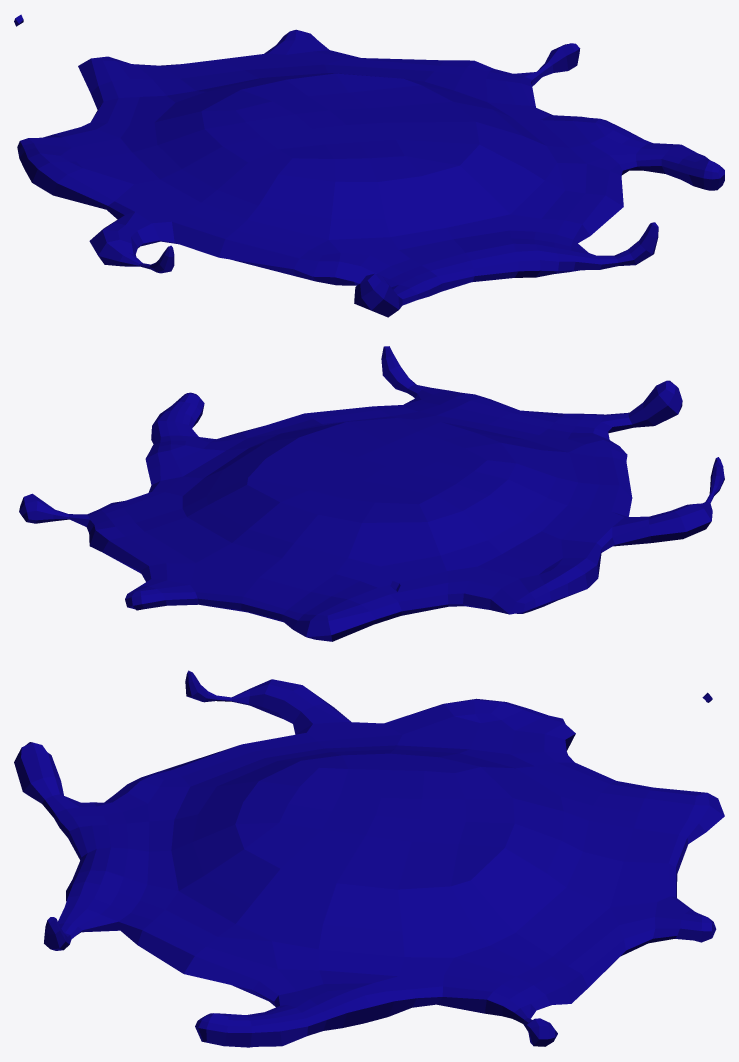
Rendered from splash_bleu.FBX.
3 renders of one model, top to bottom at view 1: azimuth 30°, elevation 25°; view 2: azimuth 150°, elevation 25°; view 3: azimuth 270°, elevation 25°, orthographic. The views are drawn at different scales.
Parts seen in each view (by area): view 1: Fluid Domain.004; view 2: Fluid Domain.004; view 3: Fluid Domain.004.
Part boxes in pixels (left/top/right/bottom): Fluid Domain.004: left=14, top=14, right=724, bottom=317; Fluid Domain.004: left=19, top=346, right=724, bottom=641; Fluid Domain.004: left=14, top=670, right=724, bottom=1047.
Bounding box in the file's own units: 164 × 159 × 29.28.
